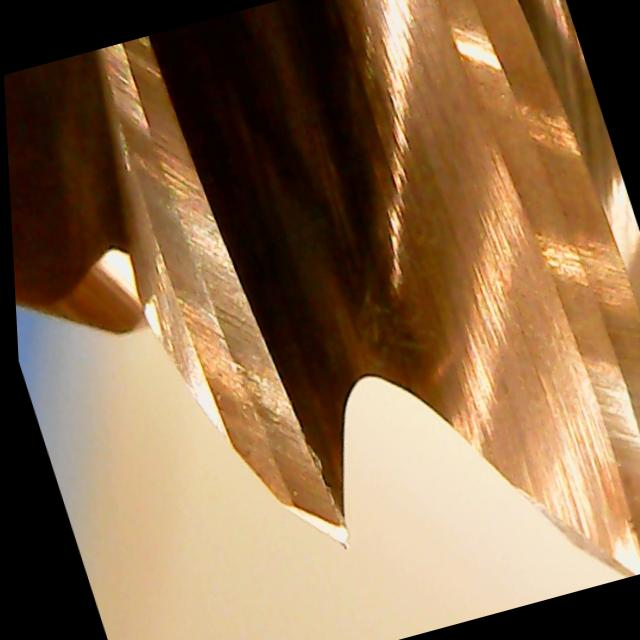Tool-wear-class-0: (117, 195, 372, 584)
